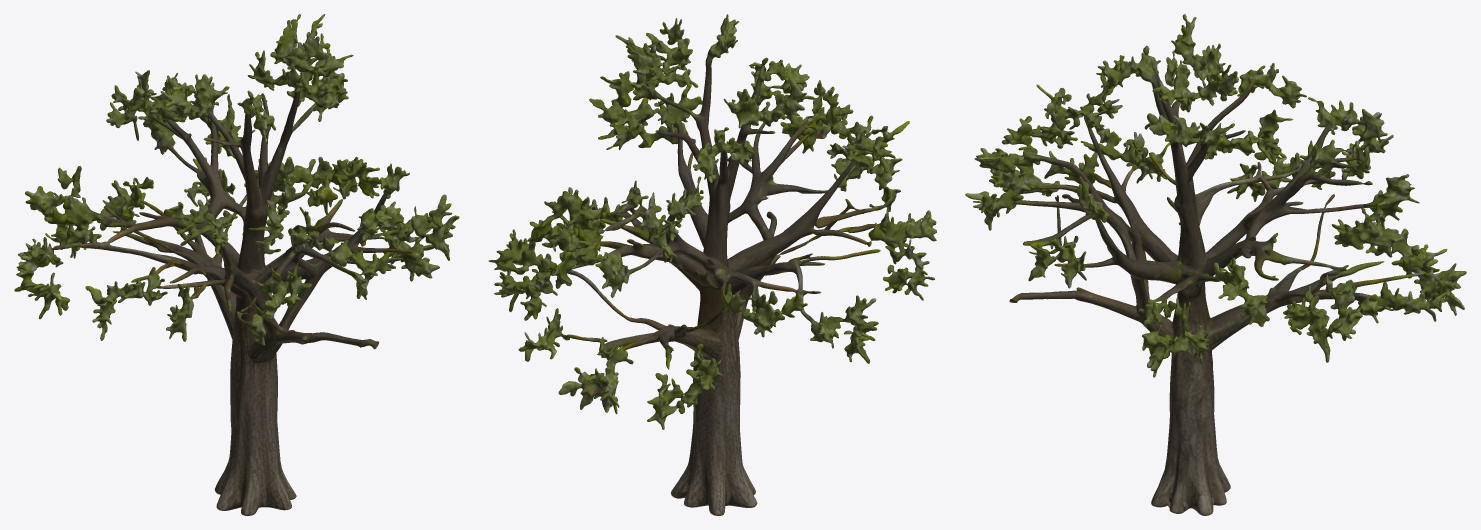
The model's file is oak_tree_3D.glb.
3 renders of one model, left to right at view 1: azimuth 30°, elevation 25°; view 2: azimuth 150°, elevation 25°; view 3: azimuth 270°, elevation 25°, orthographic.
Size of the model in its own units: 0.835 by 0.9999 by 0.9647.
Materials: 1 (1 with a texture image).
